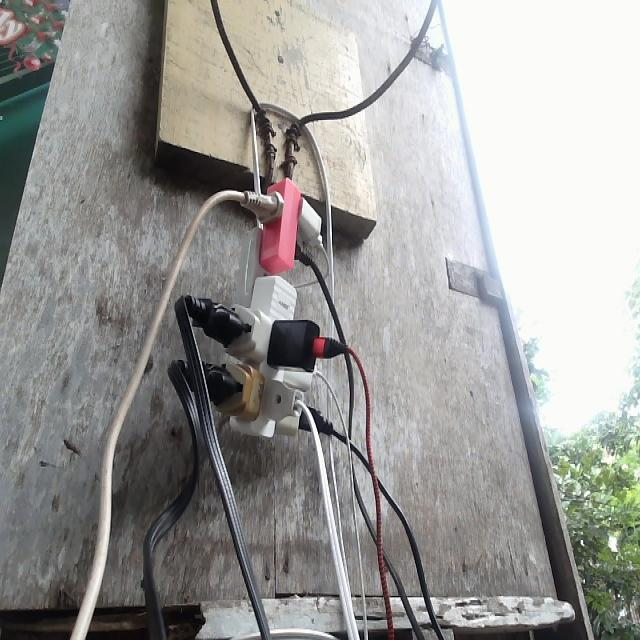-: (183, 174, 348, 438)
